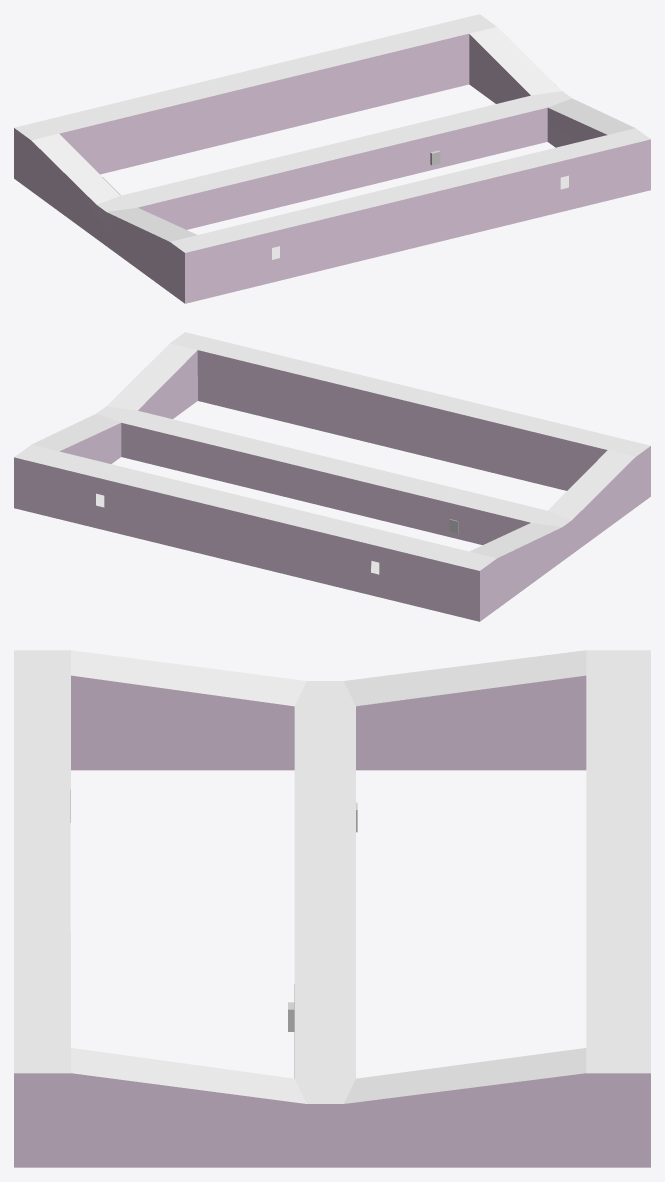
File: School_Inside.fbx
The picture shows the model from 3 angles, top to bottom: view 1: azimuth 30°, elevation 25°; view 2: azimuth 150°, elevation 25°; view 3: azimuth 270°, elevation 25°; orthographic projection. The views are drawn at different scales.
Visible parts, largest first — view 1: Cube.002; view 2: Cube.002; view 3: Cube.002.
Part boxes in pixels (x1,y1,x2,y2): Cube.002: (14, 14, 650, 303); Cube.002: (14, 332, 650, 621); Cube.002: (14, 650, 650, 1167).
Bounding box in the file's own units: 6482 × 676 × 4125.
